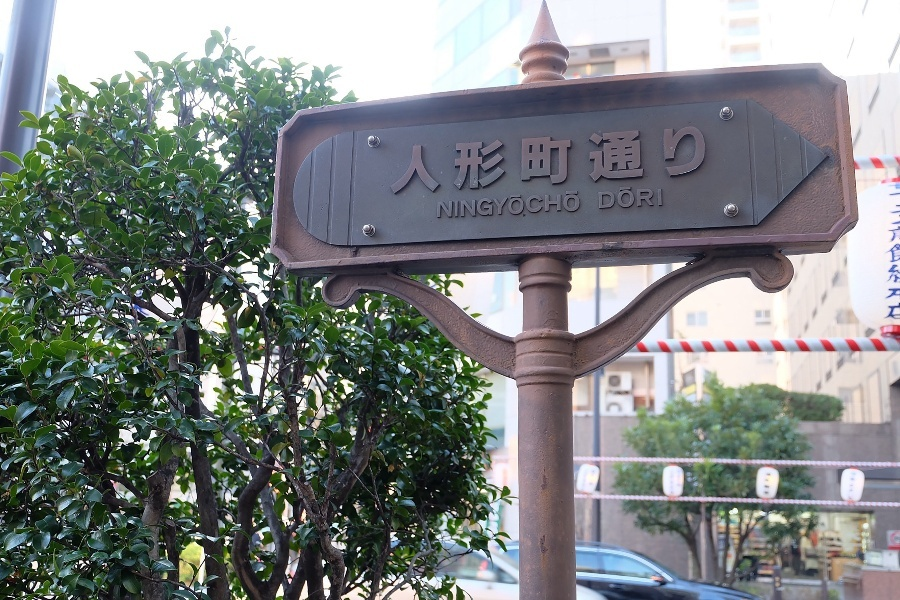text: (417, 122, 432, 199), (433, 122, 448, 199), (449, 122, 464, 199), (465, 122, 480, 199), (481, 122, 496, 199), (497, 122, 512, 199), (513, 122, 528, 199), (529, 122, 544, 199), (545, 122, 560, 199), (561, 122, 576, 199), (577, 122, 592, 199), (593, 122, 608, 199), (609, 122, 624, 199), (625, 122, 640, 199), (641, 122, 656, 199), (657, 122, 672, 199), (673, 122, 688, 199), (689, 122, 704, 199), (889, 191, 896, 323), (449, 191, 464, 219), (465, 191, 480, 219), (481, 191, 496, 219), (497, 191, 512, 219), (513, 191, 528, 219), (529, 191, 544, 219), (545, 191, 560, 219), (561, 191, 576, 219), (897, 191, 900, 323), (411, 122, 416, 199), (705, 122, 710, 199), (609, 185, 624, 209), (625, 185, 640, 209), (641, 185, 656, 209), (437, 191, 448, 219), (598, 185, 608, 209), (657, 185, 664, 209), (577, 191, 581, 219)
